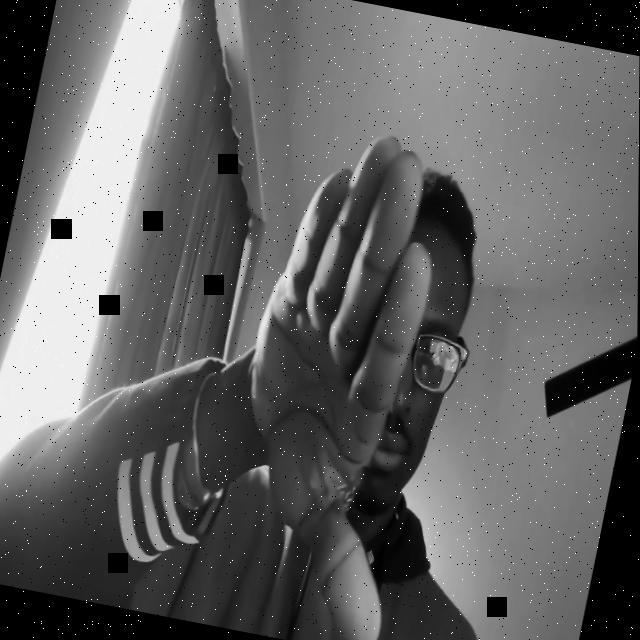Paper: (201, 115, 479, 640)
